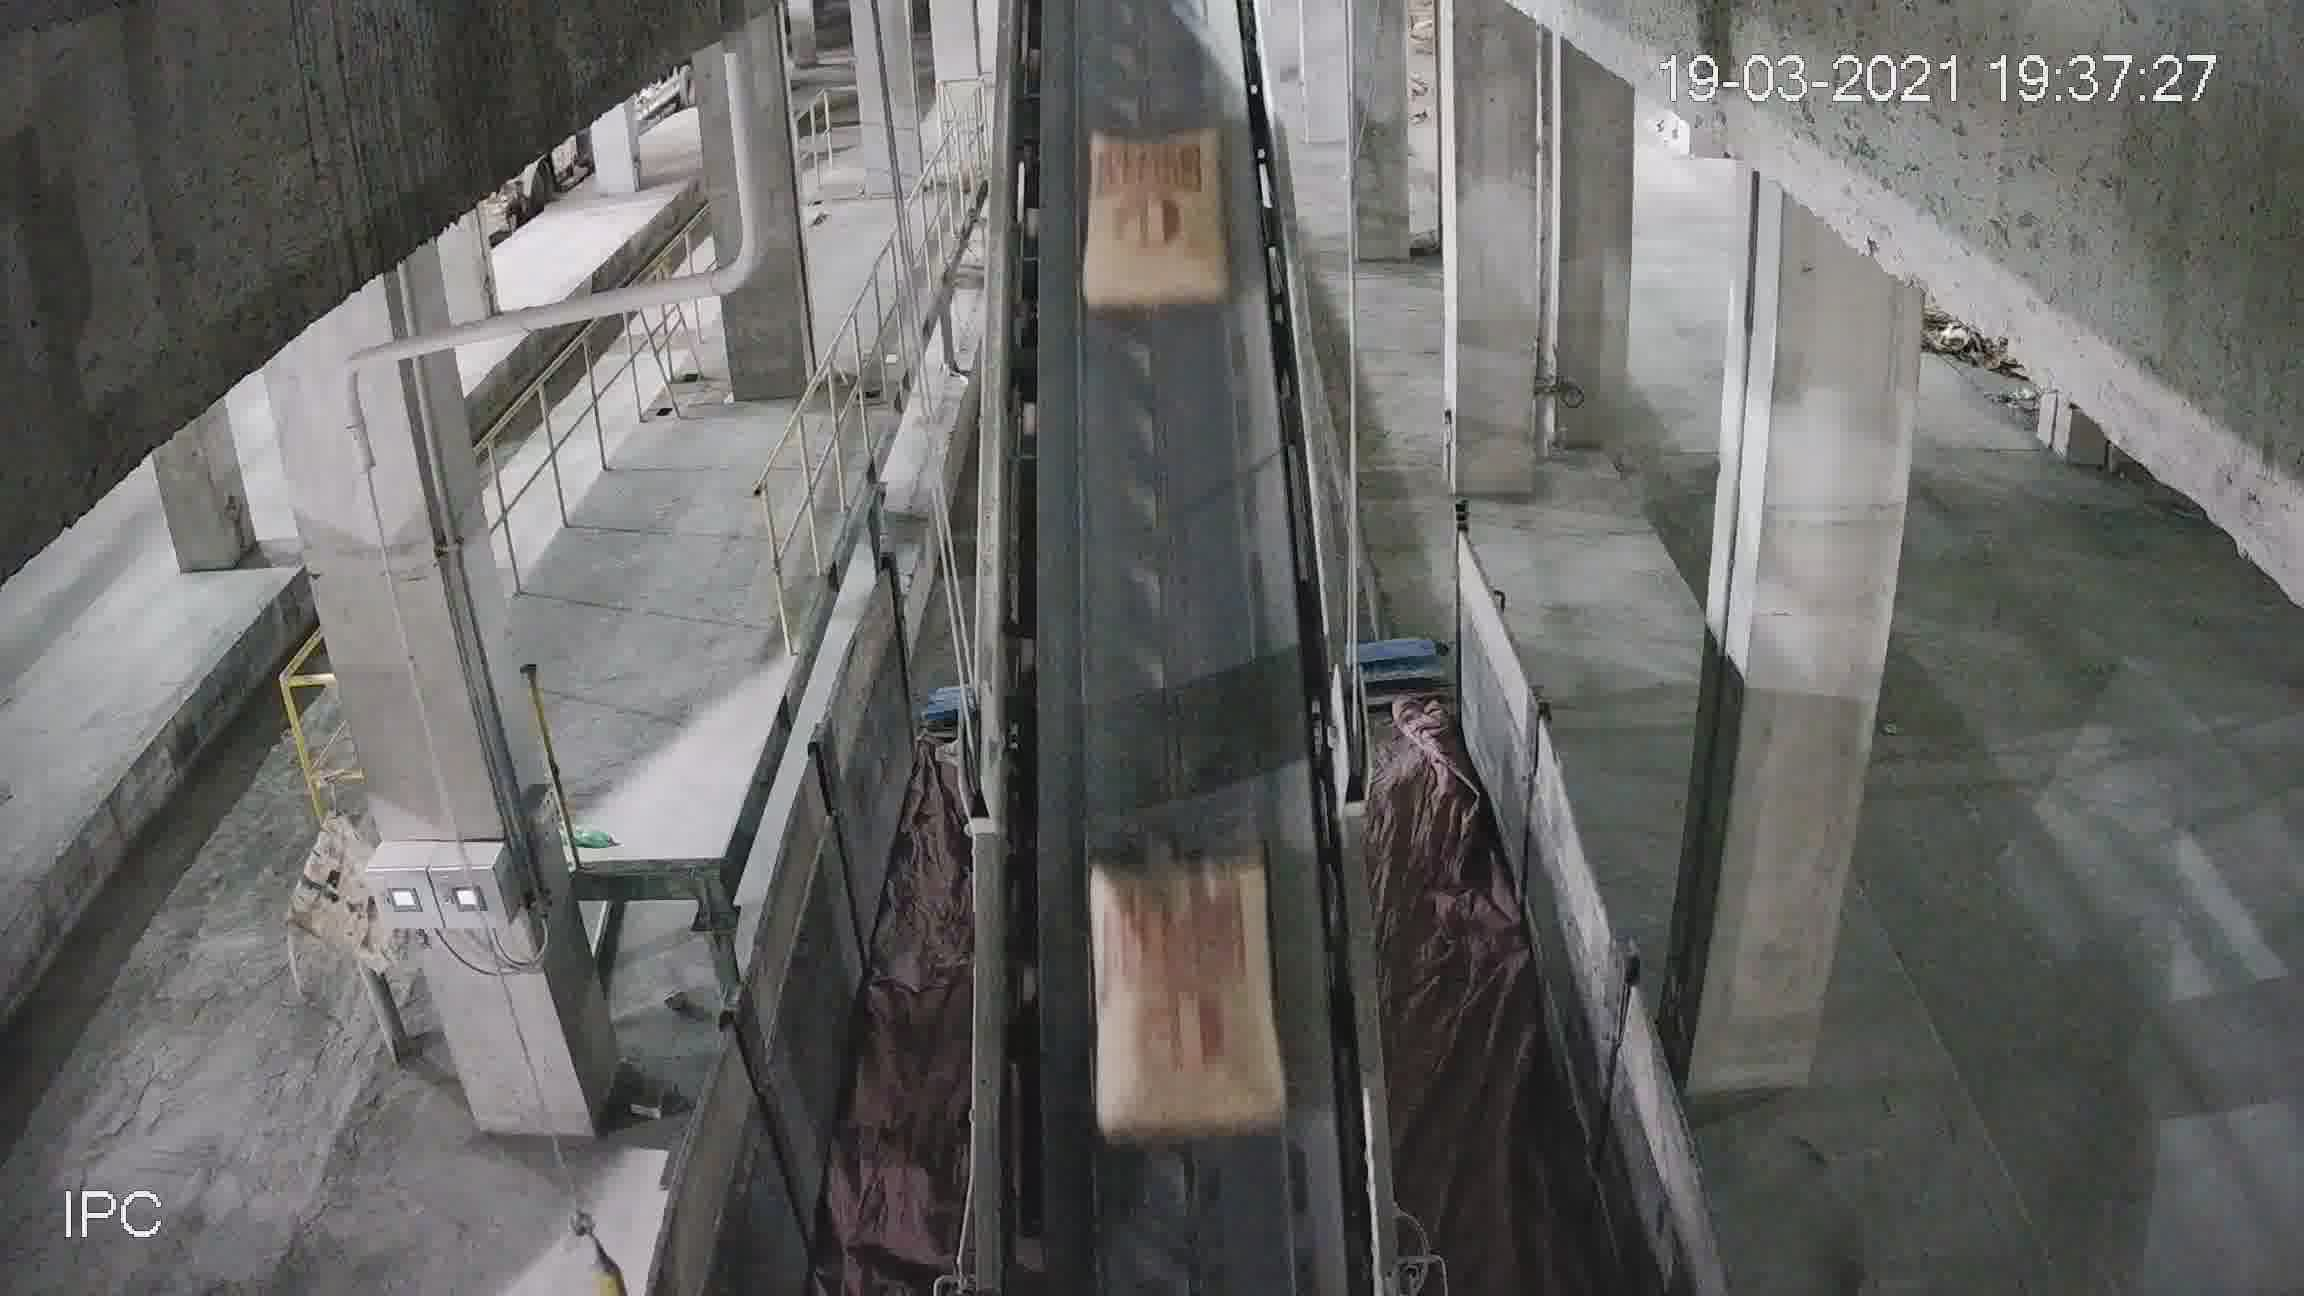bag: (1089, 862, 1279, 1135), (1079, 138, 1230, 309)
belt: (959, 30, 1366, 1120)
